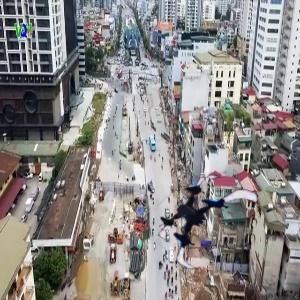drone: (149, 171, 251, 273)
